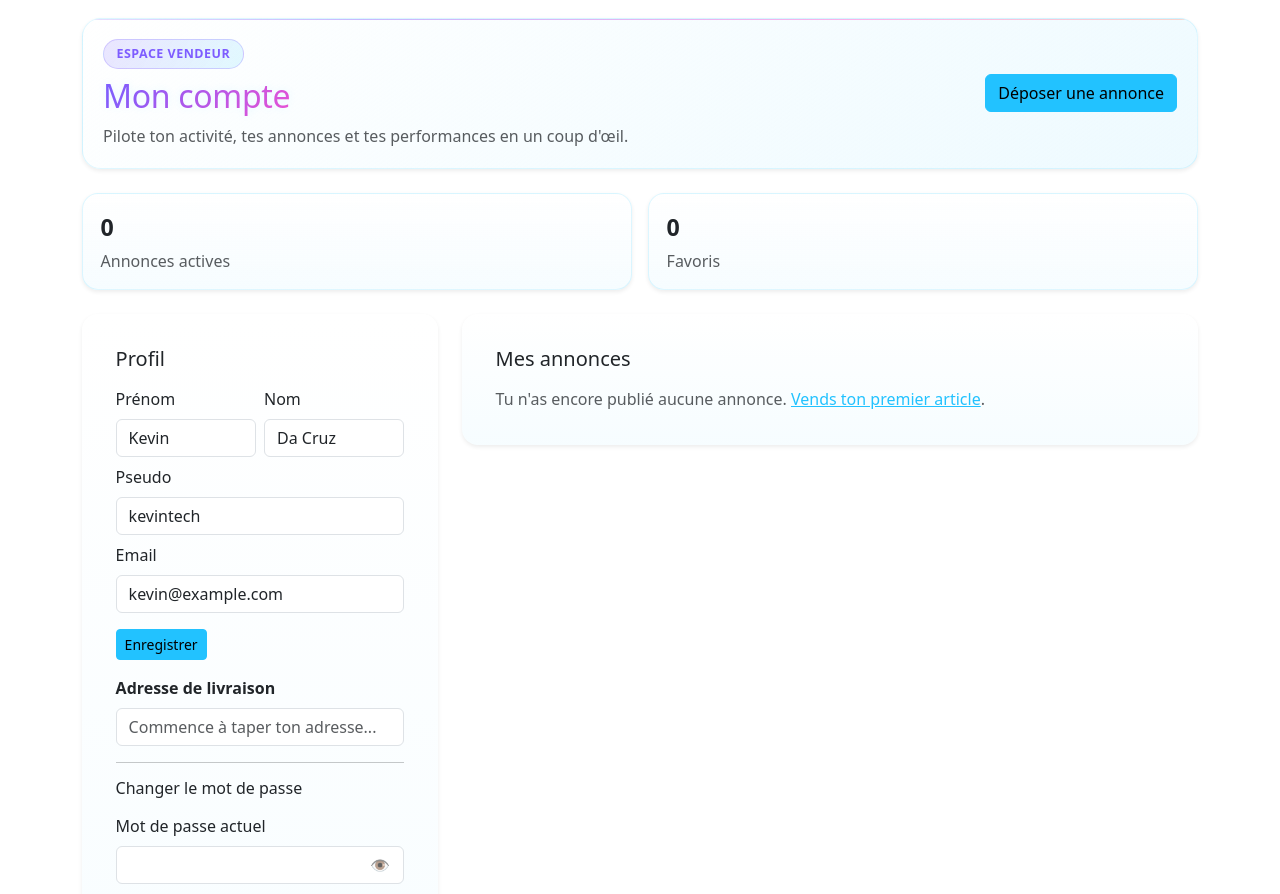
Scenario: Account › changes the password through the form
This screenshot has width=1280, height=894.
Type "azerty123" into the password field labelled "Mot de passe actuel" at (260, 865), box [116,846,404,884]
(page scrolled)
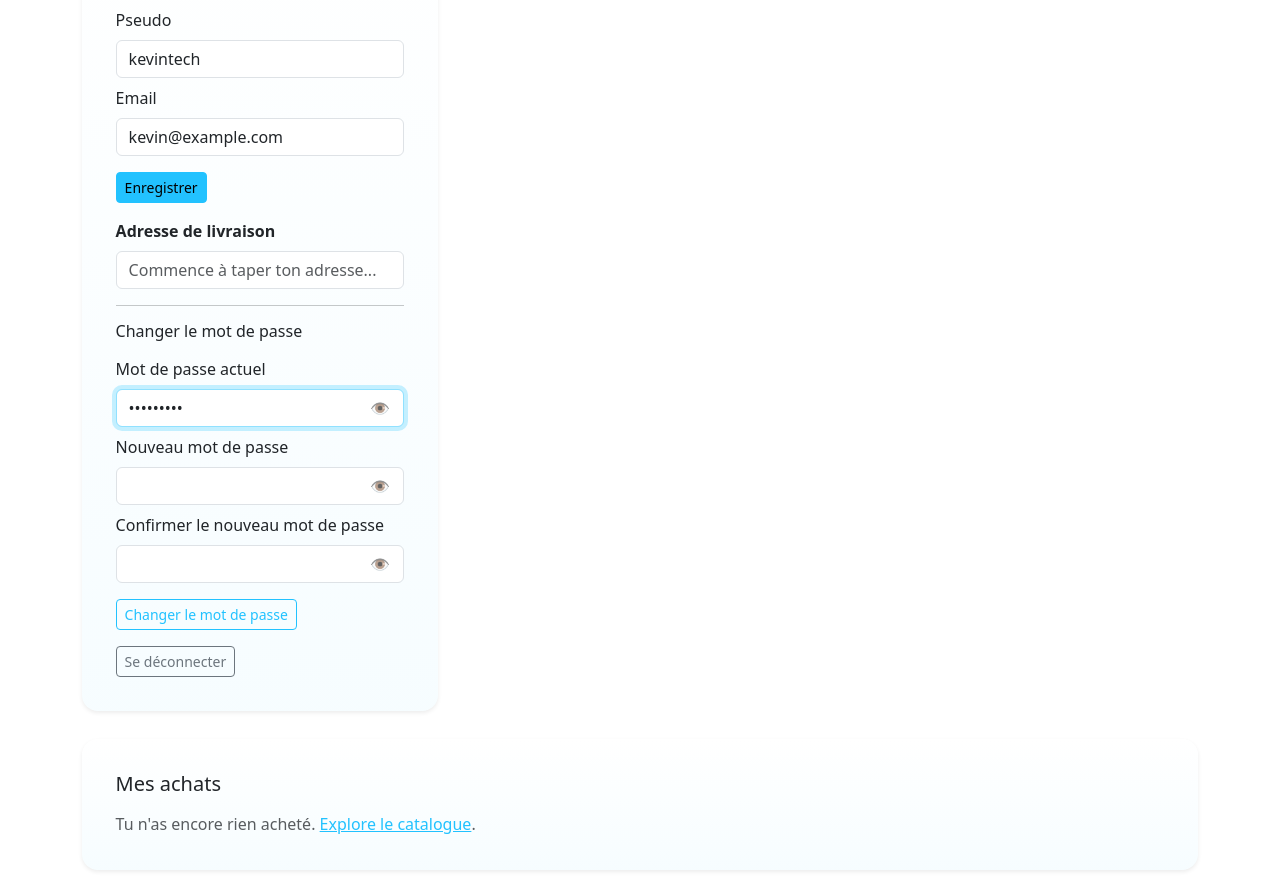
Type "newpassword456" into the password field labelled "Nouveau mot de passe" at (260, 486), box [116,467,404,505]
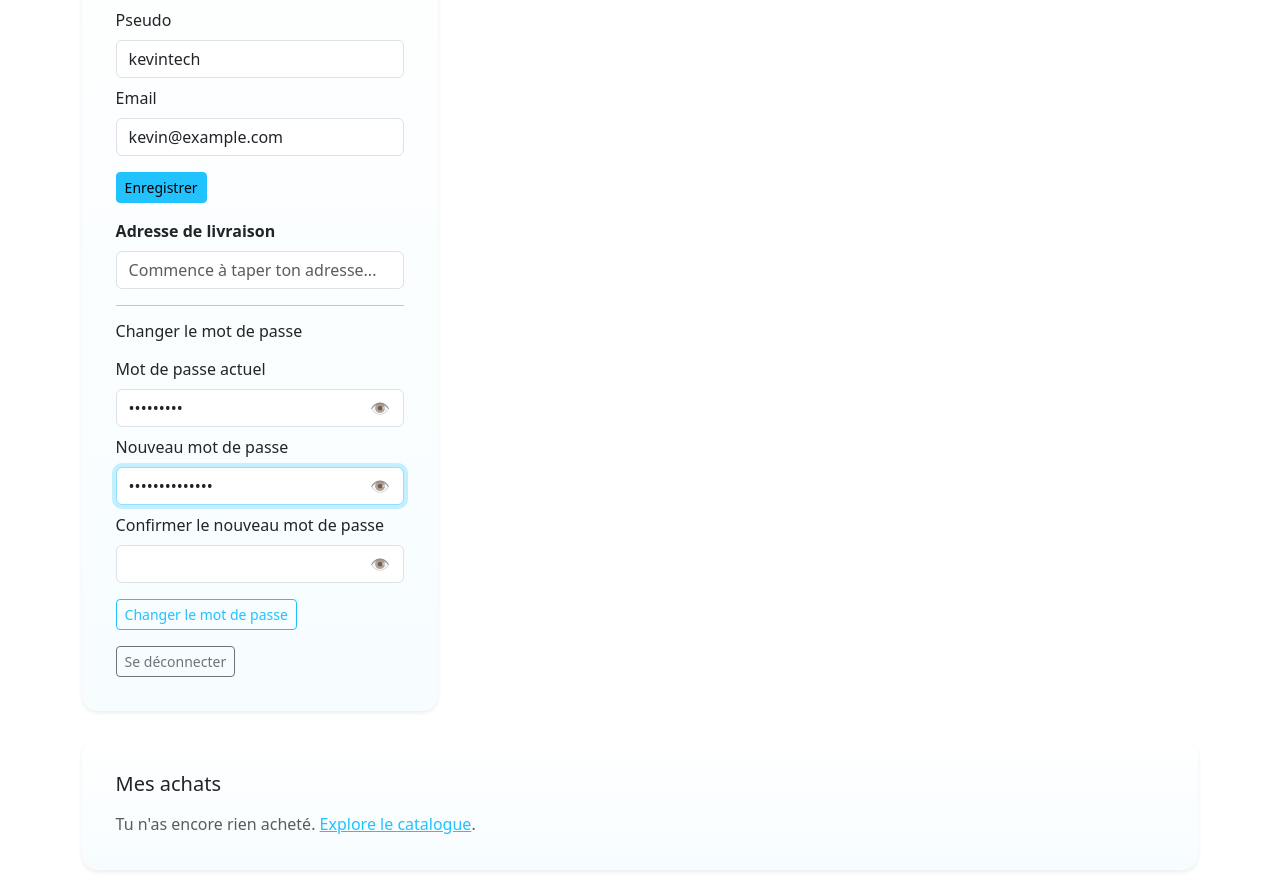
Type "newpassword456" into the password field labelled "Confirmer le nouveau mot de passe" at (260, 564), box [116,545,404,583]
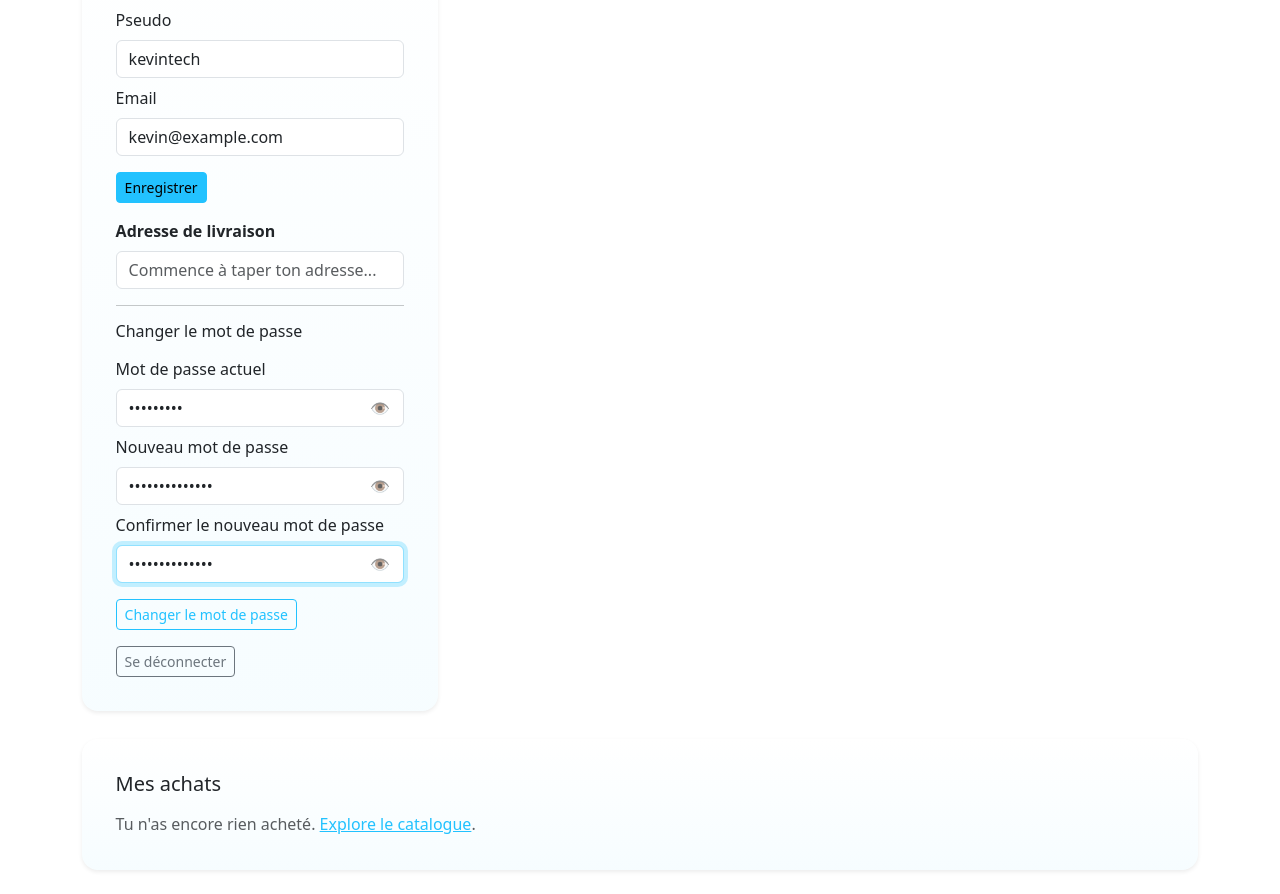
Click the button "Changer le mot de passe" at (206, 615), box [116,599,297,630]
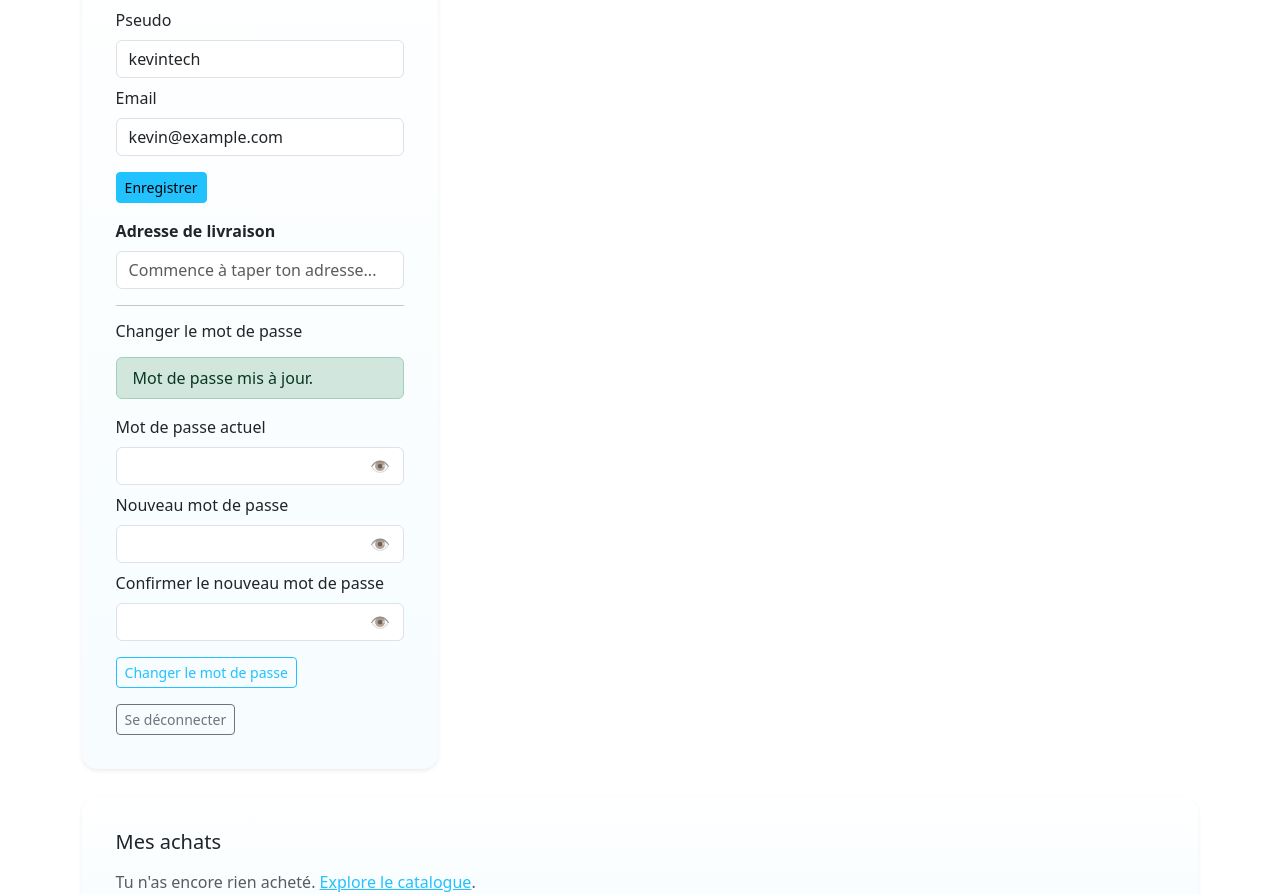
expect the text "Mot de passe mis à jour." is shown: met, box [116,357,404,399]
